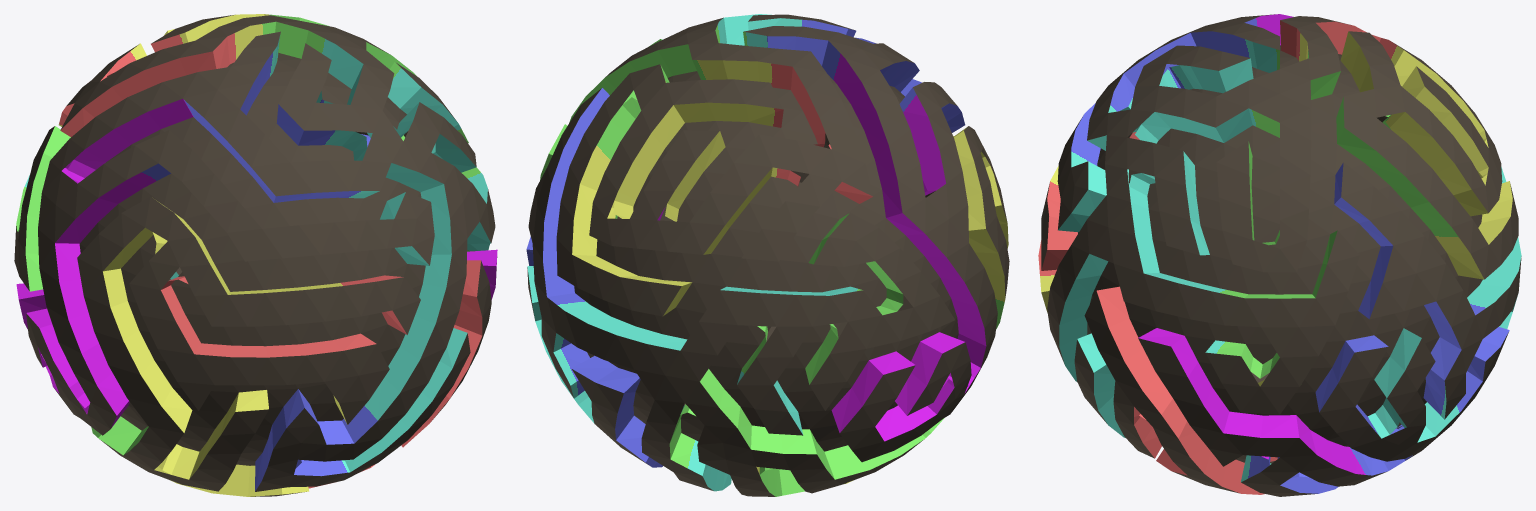
Rendered from Colliders_lvl_UV2.FBX.
3 views of the same model, side by side, from view 1: azimuth 30°, elevation 25°; view 2: azimuth 150°, elevation 25°; view 3: azimuth 270°, elevation 25° (orthographic).
Visible parts, largest first — view 1: Exterior1, Paredes1, Exterior2, Interior, Paredes2; view 2: Exterior1, Exterior2, Paredes1, Interior, Paredes2; view 3: Exterior1, Paredes1, Interior, Exterior2, Paredes2.
Part boxes in pixels (box(x1,y1,x2,y2)): Exterior1: box(26, 15, 495, 491); Paredes1: box(16, 14, 490, 491); Exterior2: box(14, 126, 497, 496); Interior: box(79, 53, 425, 465); Paredes2: box(16, 126, 497, 496); Exterior1: box(556, 14, 997, 462); Exterior2: box(527, 88, 1009, 496); Paredes1: box(540, 14, 986, 441); Interior: box(574, 71, 958, 451); Paredes2: box(526, 88, 1008, 496); Exterior1: box(1047, 14, 1518, 423); Paredes1: box(1058, 14, 1512, 437); Interior: box(1078, 45, 1482, 463); Exterior2: box(1041, 117, 1521, 496); Paredes2: box(1038, 115, 1521, 494).
Size of the model in its own units: 2 by 2 by 2.
